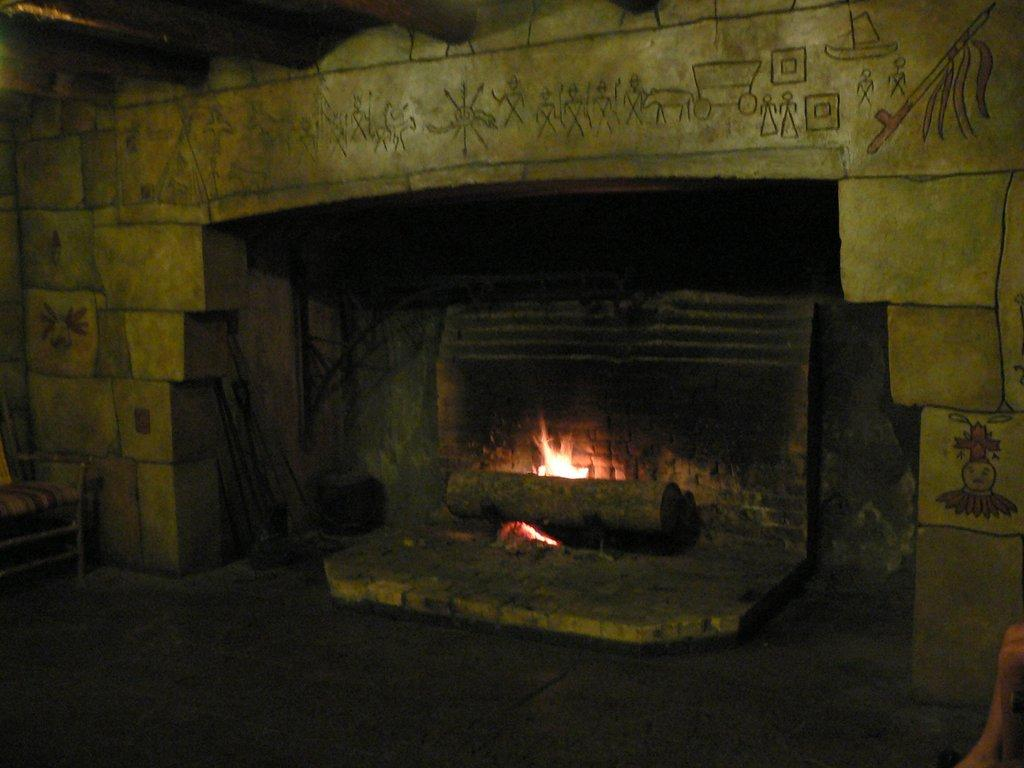fire: (525, 414, 590, 484)
